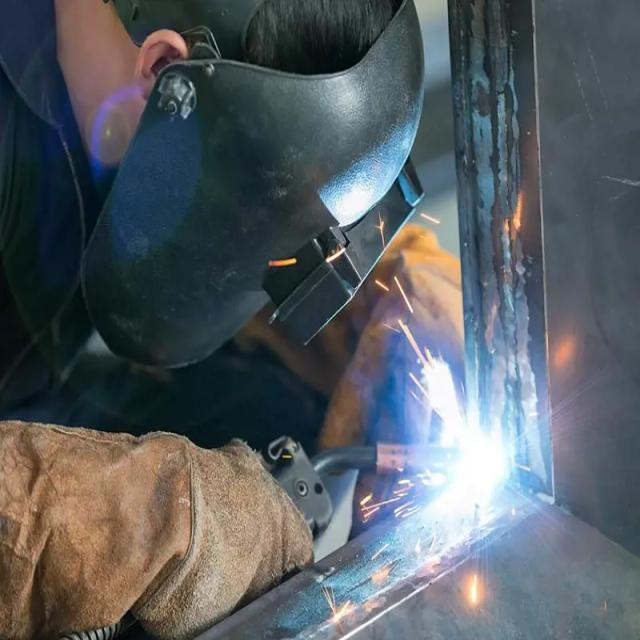welding: (458, 430, 507, 504)
